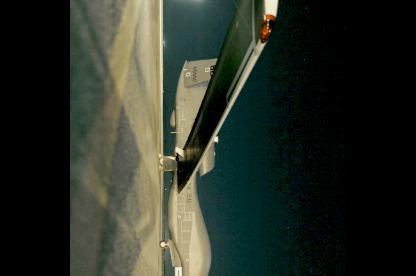P3: (158, 0, 283, 275)
